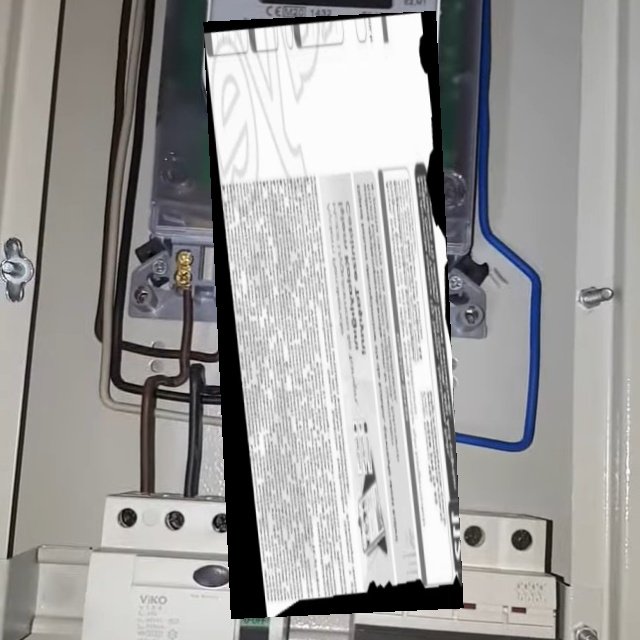electricity-bill: (202, 10, 463, 618)
